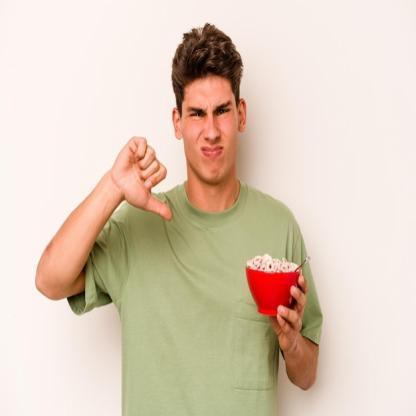thumb_down: (108, 132, 175, 226)
